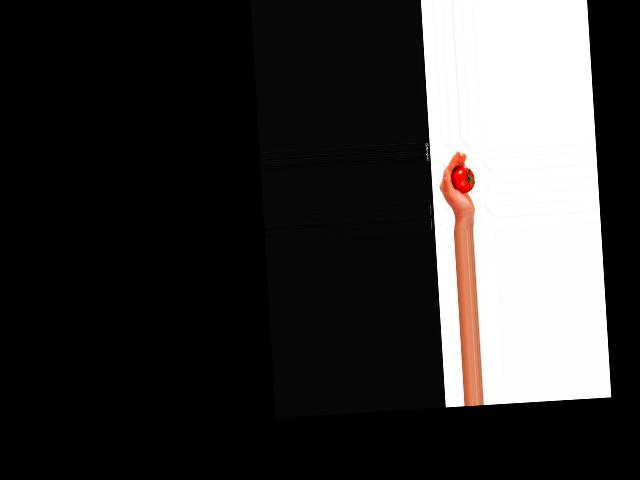tomato: (450, 167, 474, 194)
